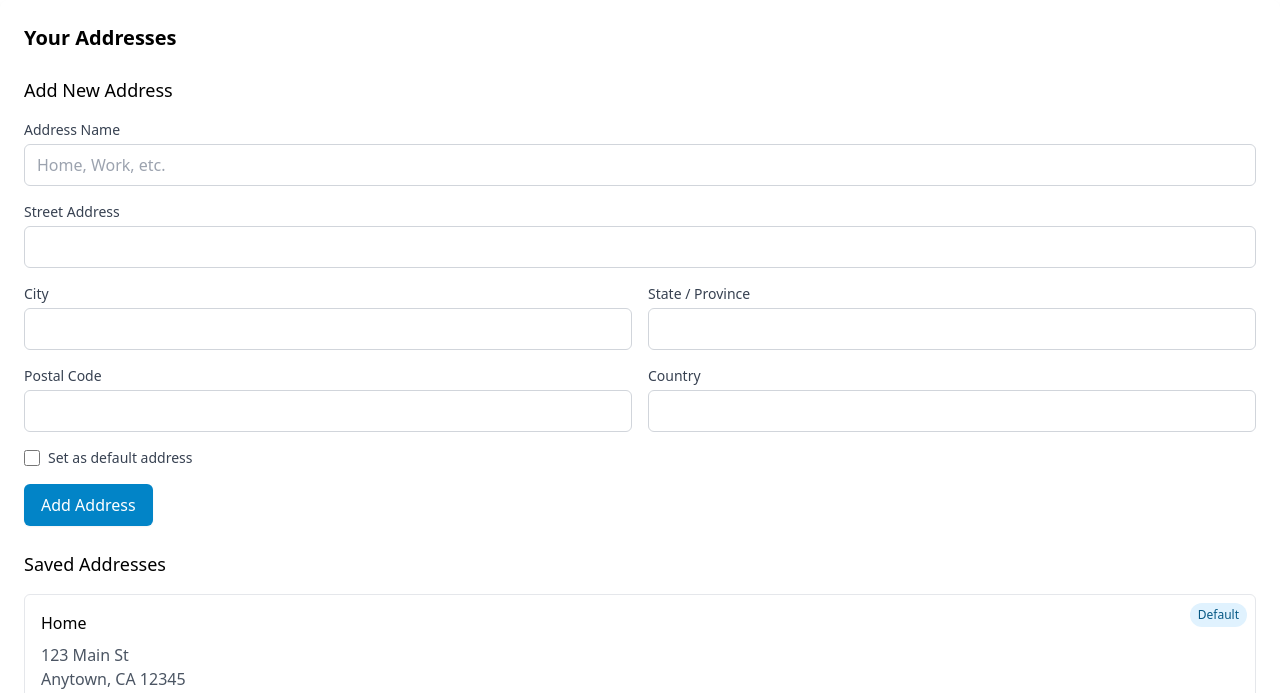
Test: AddressManager Component › handles validation errors
This screenshot has width=1280, height=693.
// Submit form with empty fields
Click the button "Add Address": (88, 505) [24,484,153,526]
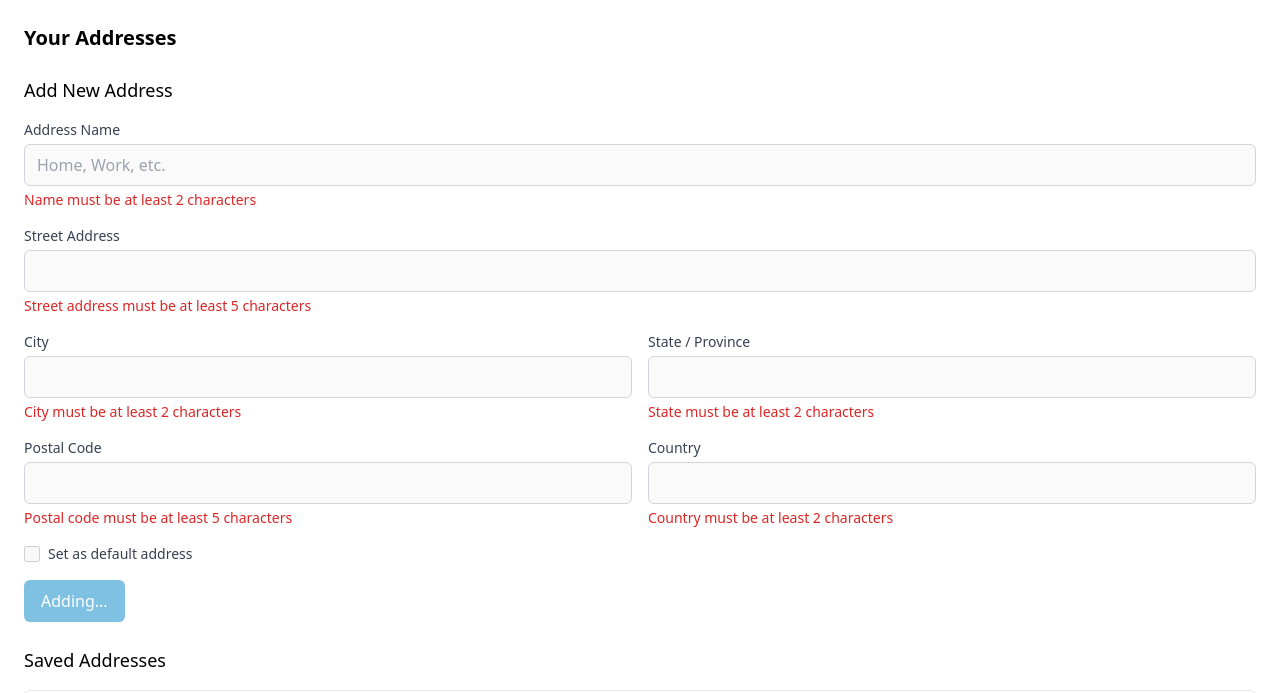
Check: the text "Name must be at least 2 characters" is shown, box [24,190,256,209]
Check: the text "Street address must be at least 5 characters" is shown, box [24,296,311,315]
